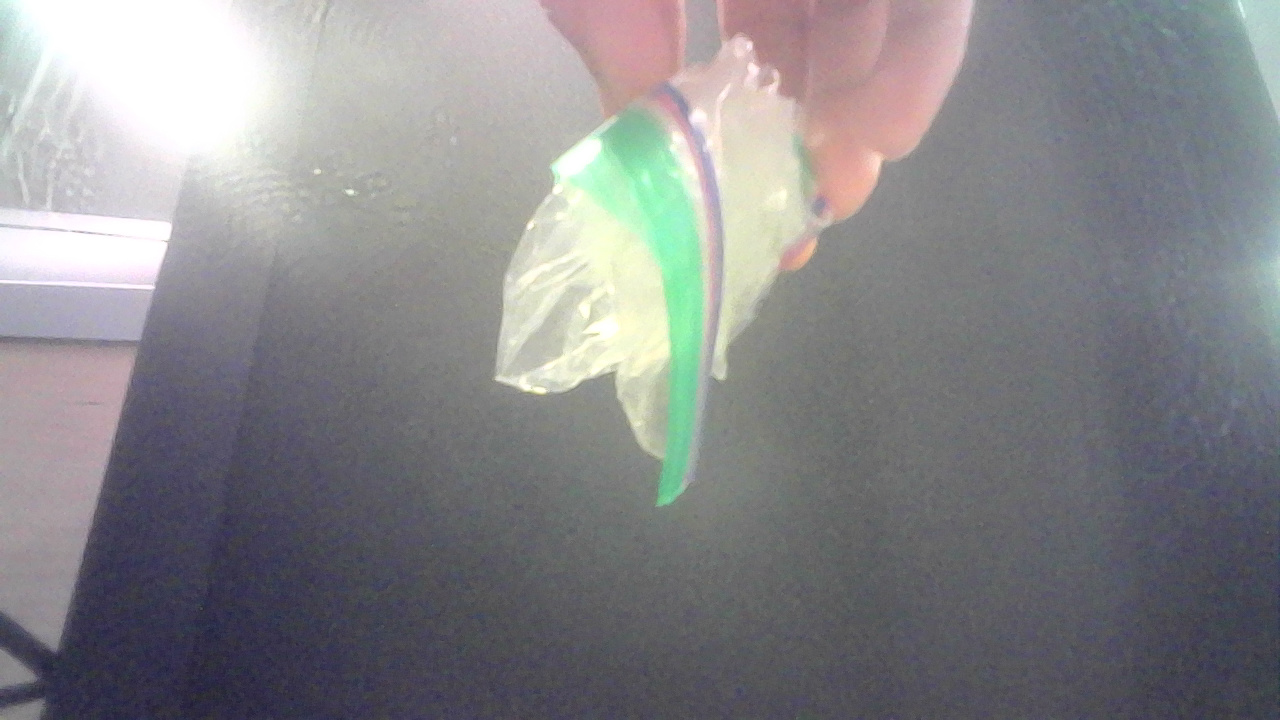Plastic_Recycling: (492, 40, 841, 501)
